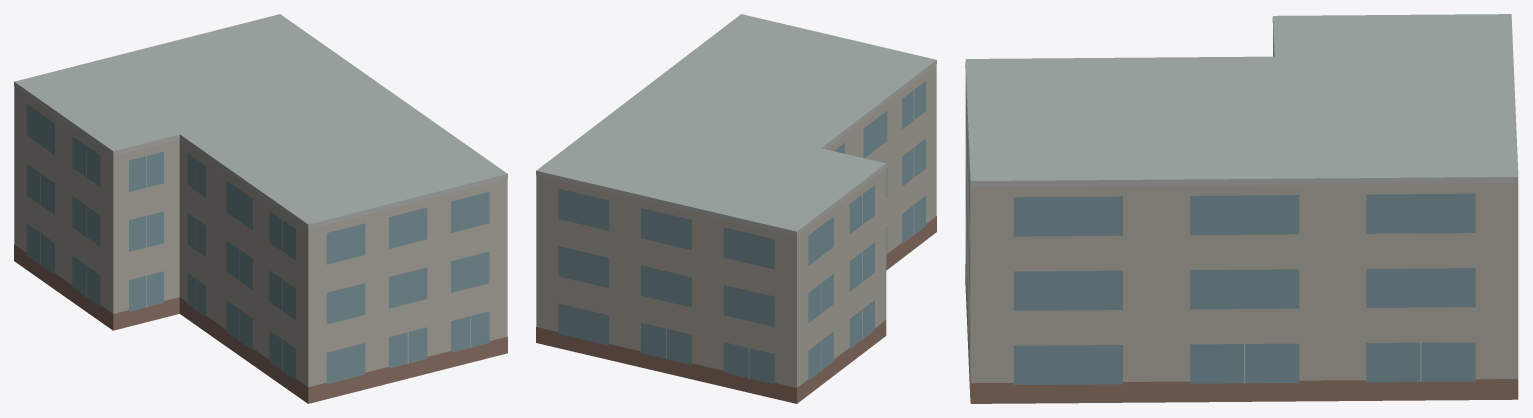
The model's file is residential-3090576c-bdaf-4ae6-a50a-15a0e9e96446.glb.
3 renders of one model, left to right at view 1: azimuth 30°, elevation 25°; view 2: azimuth 150°, elevation 25°; view 3: azimuth 270°, elevation 25°, orthographic. The views are drawn at different scales.
Visible parts, largest first — view 1: residential-3090576c-bdaf-4ae6-a50a-15a0e9e96446.tmp; view 2: residential-3090576c-bdaf-4ae6-a50a-15a0e9e96446.tmp; view 3: residential-3090576c-bdaf-4ae6-a50a-15a0e9e96446.tmp.
Part boxes in pixels (x1,y1,x2,y2): residential-3090576c-bdaf-4ae6-a50a-15a0e9e96446.tmp: [14, 14, 507, 403]; residential-3090576c-bdaf-4ae6-a50a-15a0e9e96446.tmp: [536, 14, 936, 403]; residential-3090576c-bdaf-4ae6-a50a-15a0e9e96446.tmp: [965, 14, 1518, 403].
Bounding box in the file's own units: 14.73 × 9.15 × 20.59.
